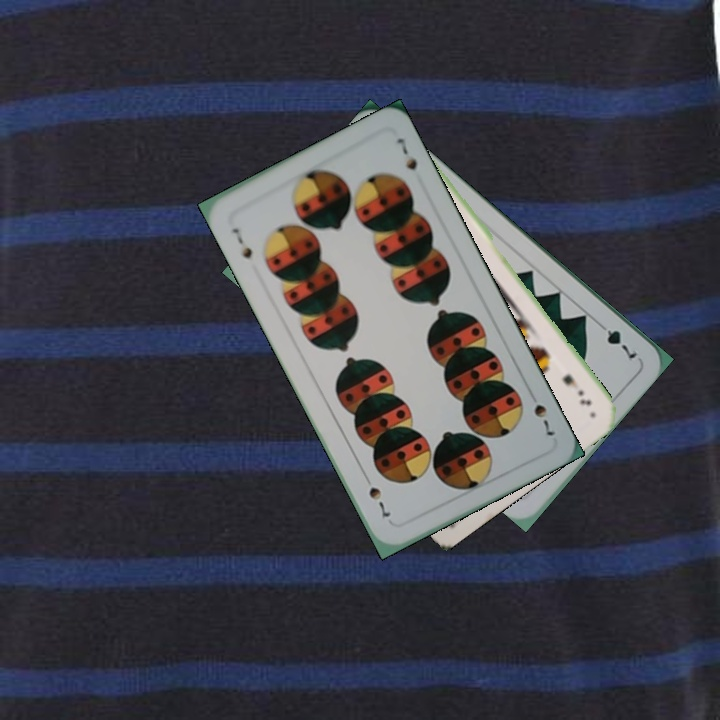E7: (558, 370, 594, 408)
G7: (593, 317, 640, 362)
S7: (529, 400, 558, 439), (228, 223, 255, 262)
